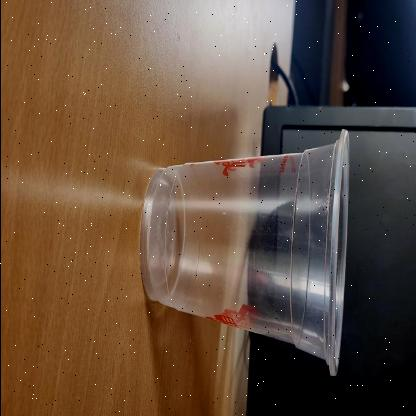Others: (138, 127, 356, 381)
